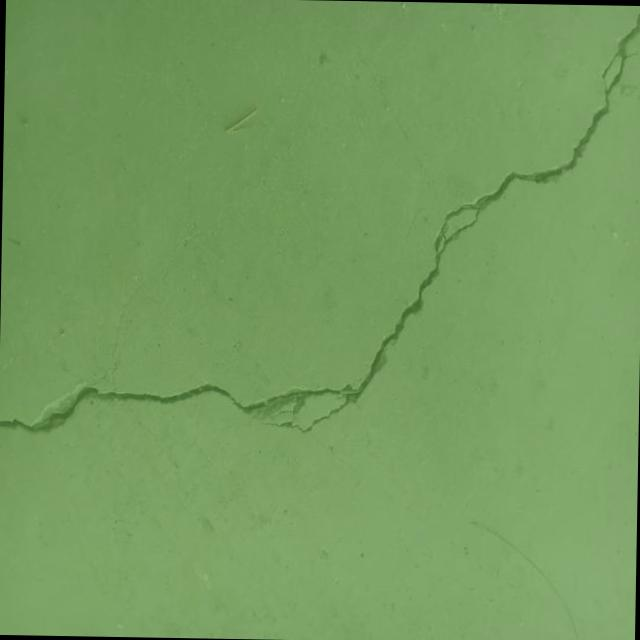crack: (0, 0, 640, 446), (161, 60, 210, 291)
